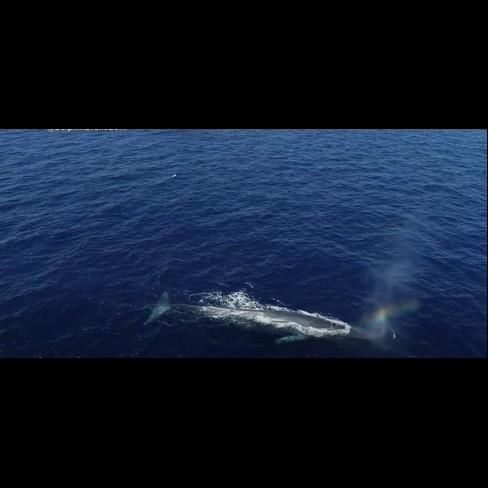bluewhale: (142, 286, 396, 352)
